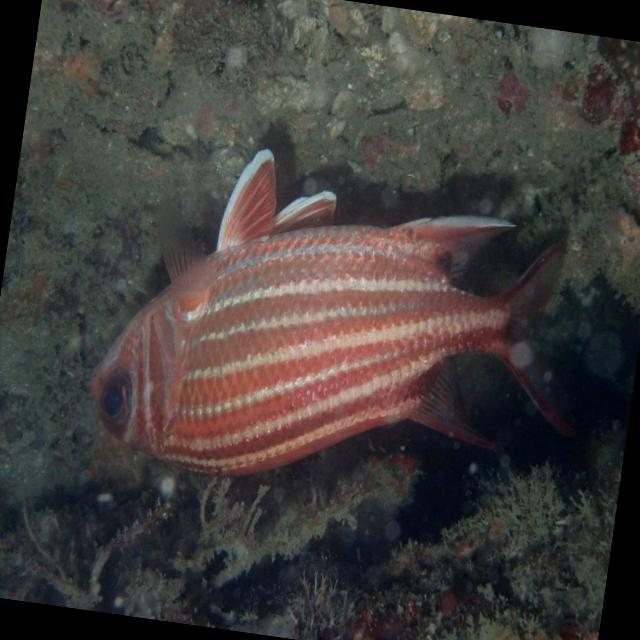Asker Baligi: (77, 128, 610, 528)
